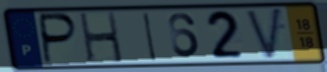2: (205, 7, 250, 63)
6: (167, 12, 202, 60)
H: (77, 11, 126, 64)
I: (141, 11, 159, 63)
P: (39, 12, 80, 66)
V: (244, 6, 285, 62)
